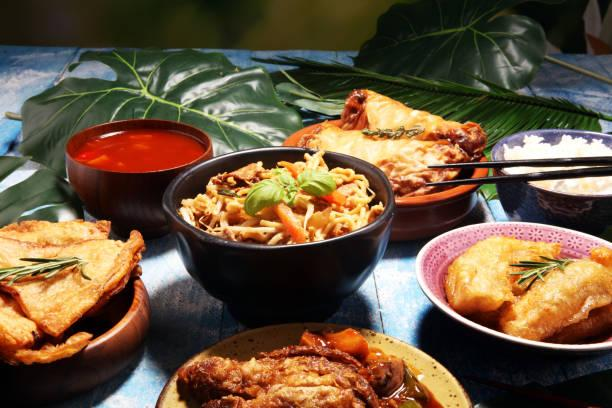Braised Crucian Carp: (164, 148, 395, 319), (0, 213, 150, 408), (421, 218, 612, 368), (154, 322, 468, 408), (283, 102, 492, 202)
